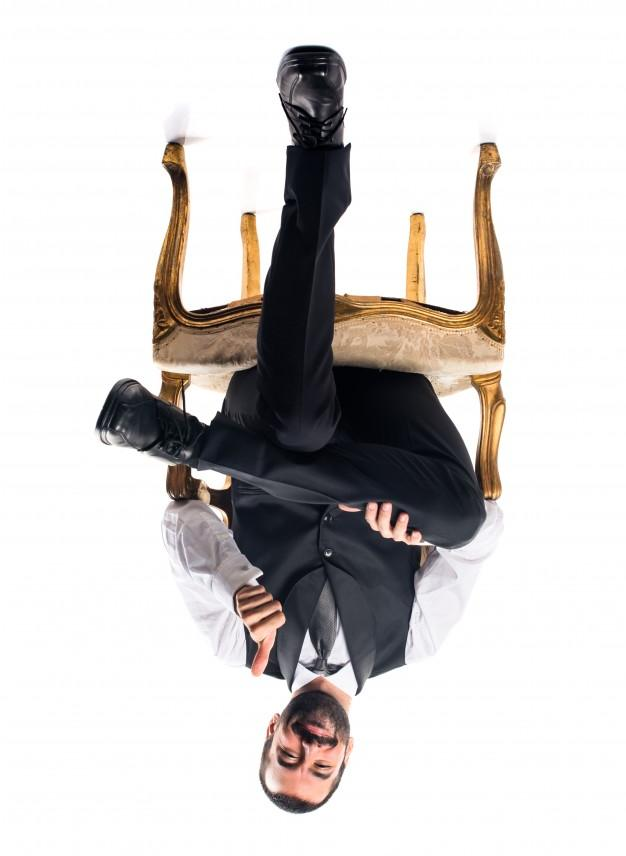thumbsdown: (236, 585, 285, 677)
